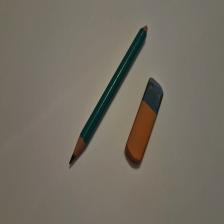eraser: (126, 78, 164, 164)
pencil: (70, 26, 149, 165)
